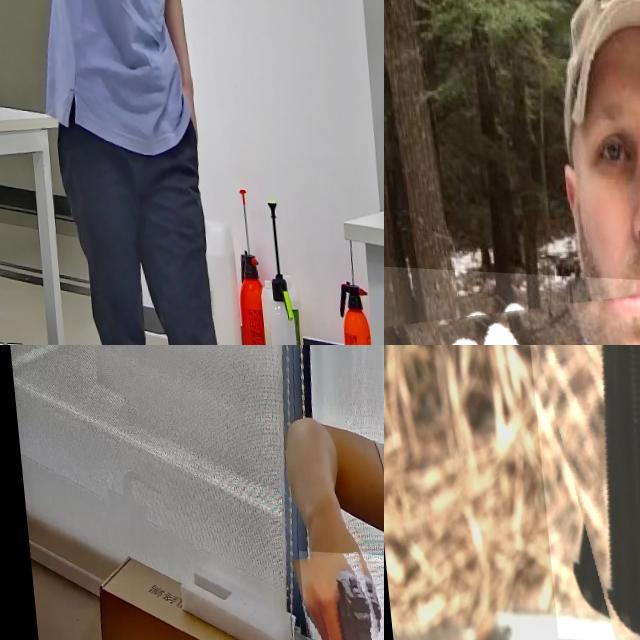-: (384, 264, 640, 345)
gun-knife-thesis - v11 Yolov5 augmented: (510, 345, 640, 640), (290, 548, 384, 640), (32, 0, 104, 42)
